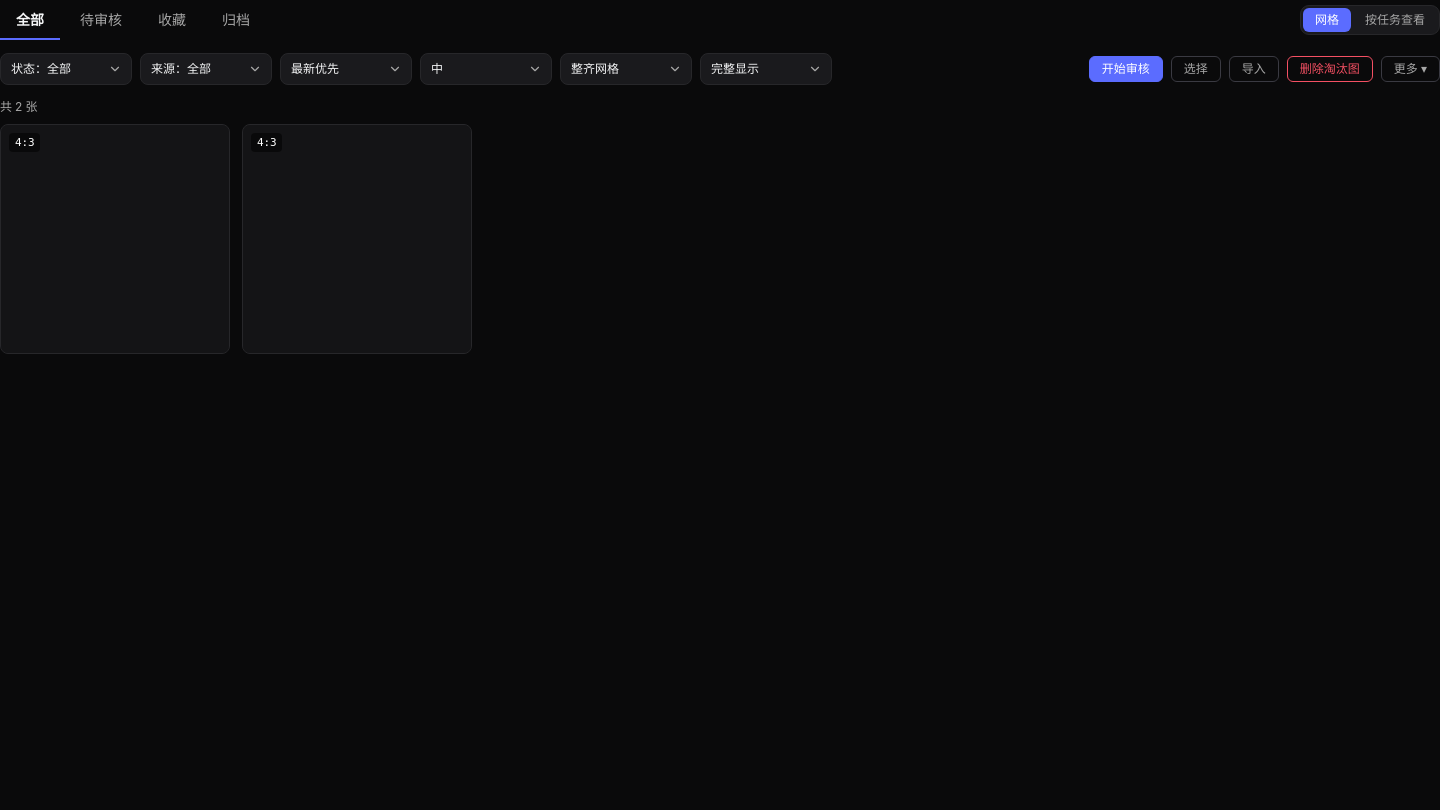
Test: Gallery 淘汰图删除入口 › 工具栏显式“删除淘汰图”按钮打开全局清理预览
Expected: the text "共 2 张" is shown, [0, 99, 37, 114]
Click the button "删除淘汰图" at [1330, 69], box [1287, 56, 1373, 82]
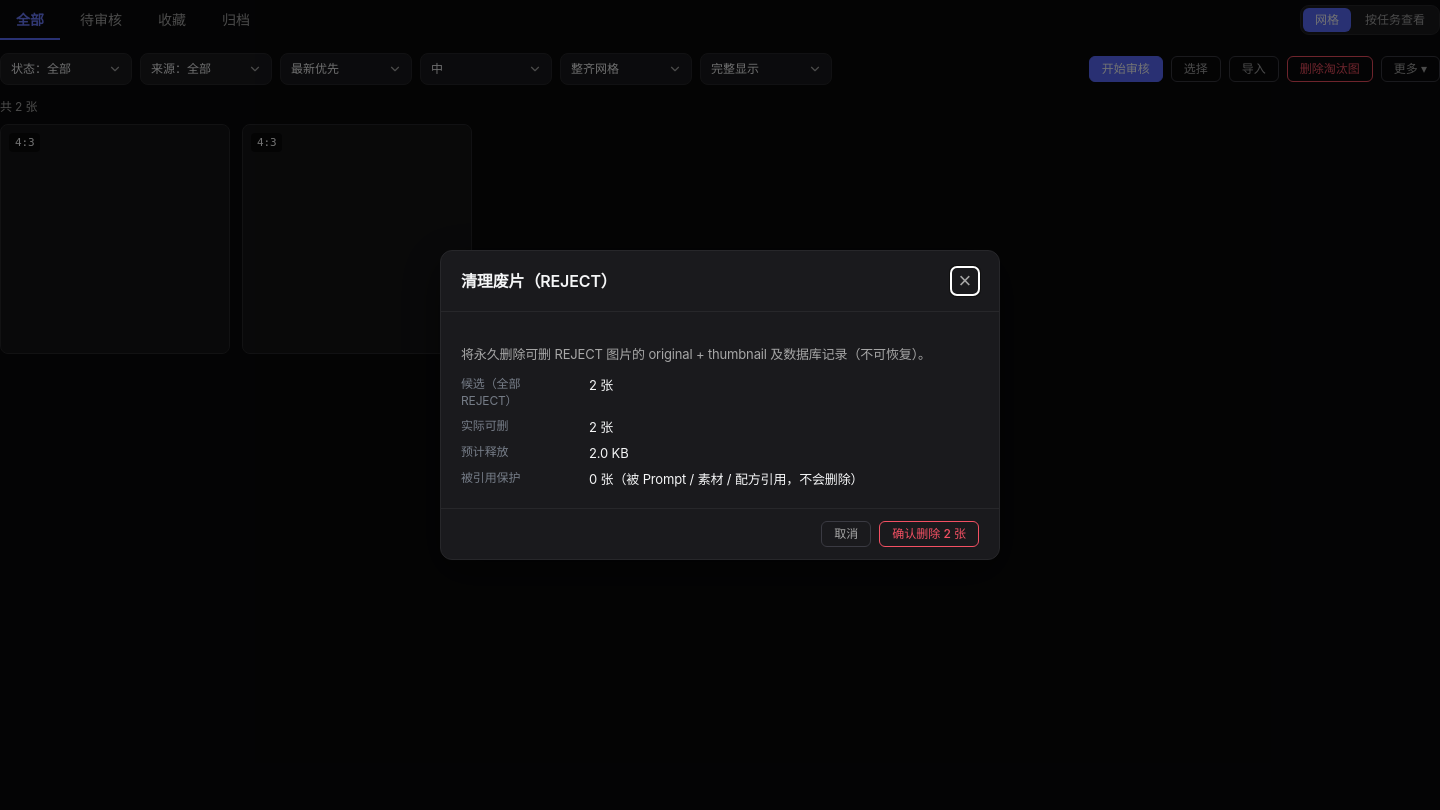
Result: the text "实际可删" is shown at [461, 418, 508, 433]
